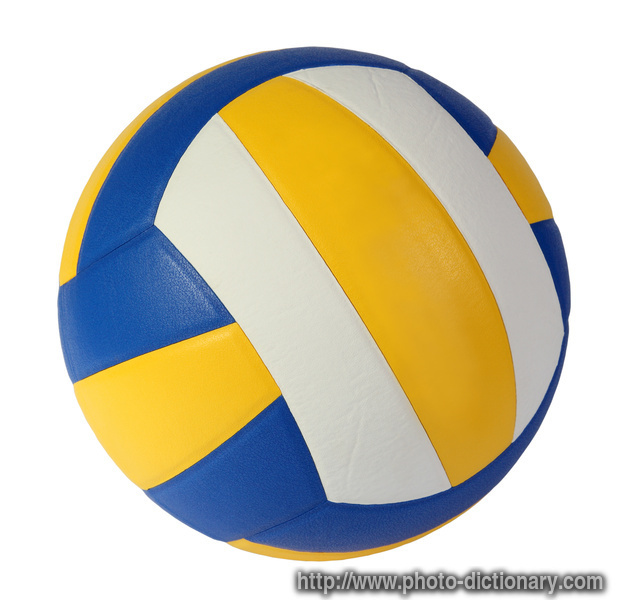volleyball: (52, 45, 580, 558)
